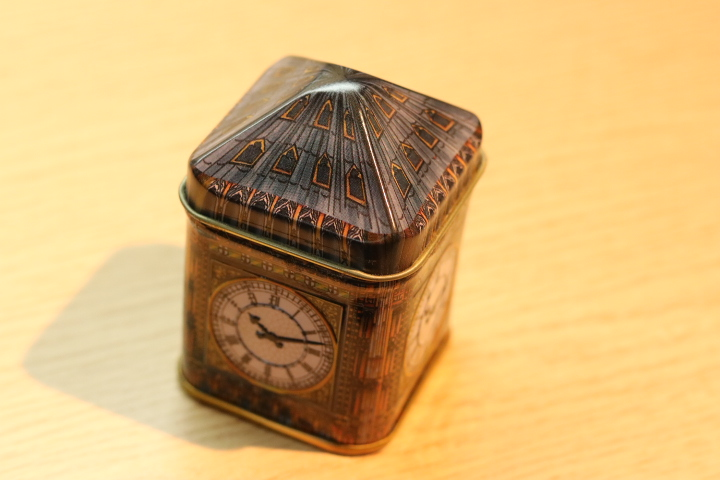Big Ben: (172, 46, 509, 463)
